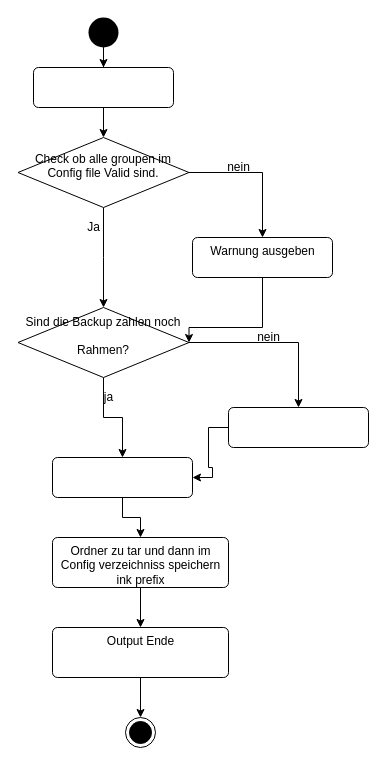
The diagram is 386 pixels wide and 765 high, and some of its shapes have lost their labels. The centre of each missing label's shape, as x and y in pixels:
Alle ordner finden: the point at 122,477
Config Datei auslesen: the point at 103,87
ältestes Backup löschen.: the point at 298,427
